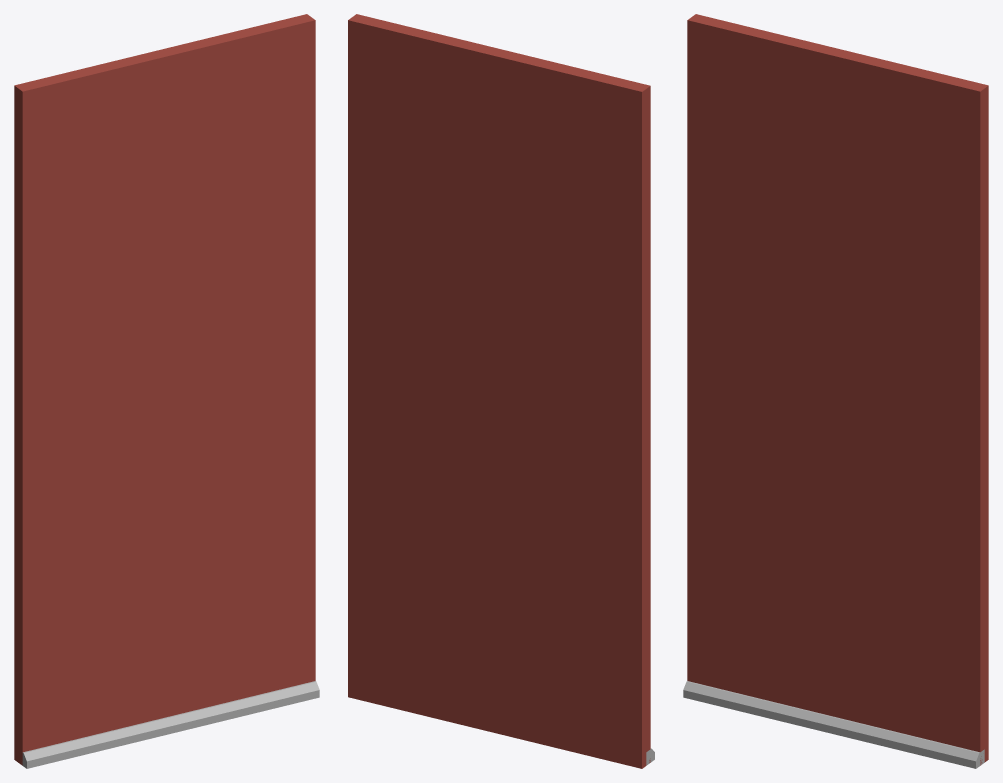
File: wall_plain.fbx
3 views of the same model, side by side, from view 1: azimuth 30°, elevation 25°; view 2: azimuth 150°, elevation 25°; view 3: azimuth 330°, elevation 25° (orthographic).
Visible parts, largest first — view 1: wall_plain; view 2: wall_plain; view 3: wall_plain.
Boxes of the visible parts, bbox=[...] form: wall_plain: bbox=[14, 14, 319, 768]; wall_plain: bbox=[348, 14, 654, 768]; wall_plain: bbox=[683, 14, 988, 768].
Size of the model in its own units: 100 by 220 by 7.5.
